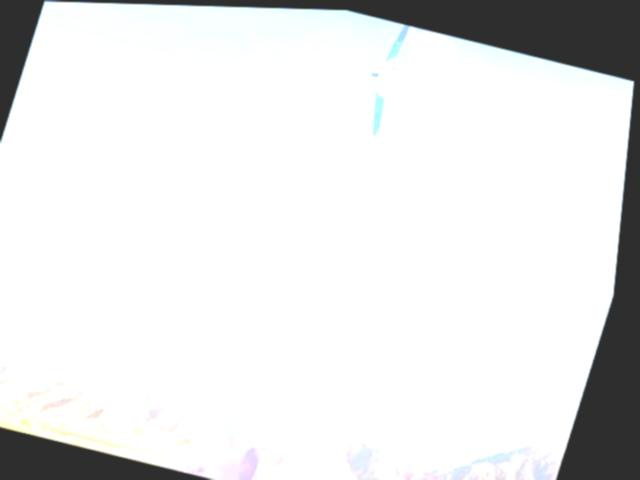iha: (354, 17, 422, 134)
